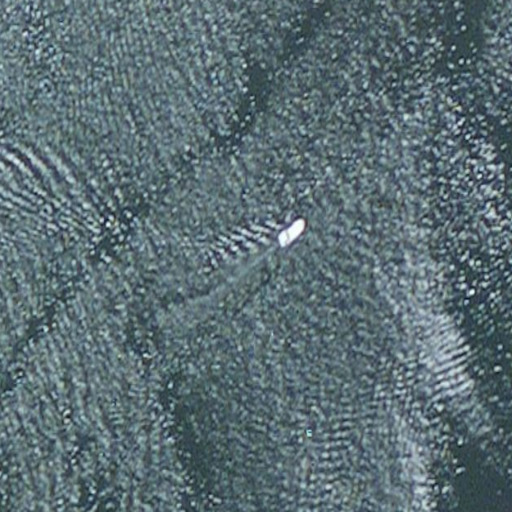ship: (276, 217, 308, 249)
